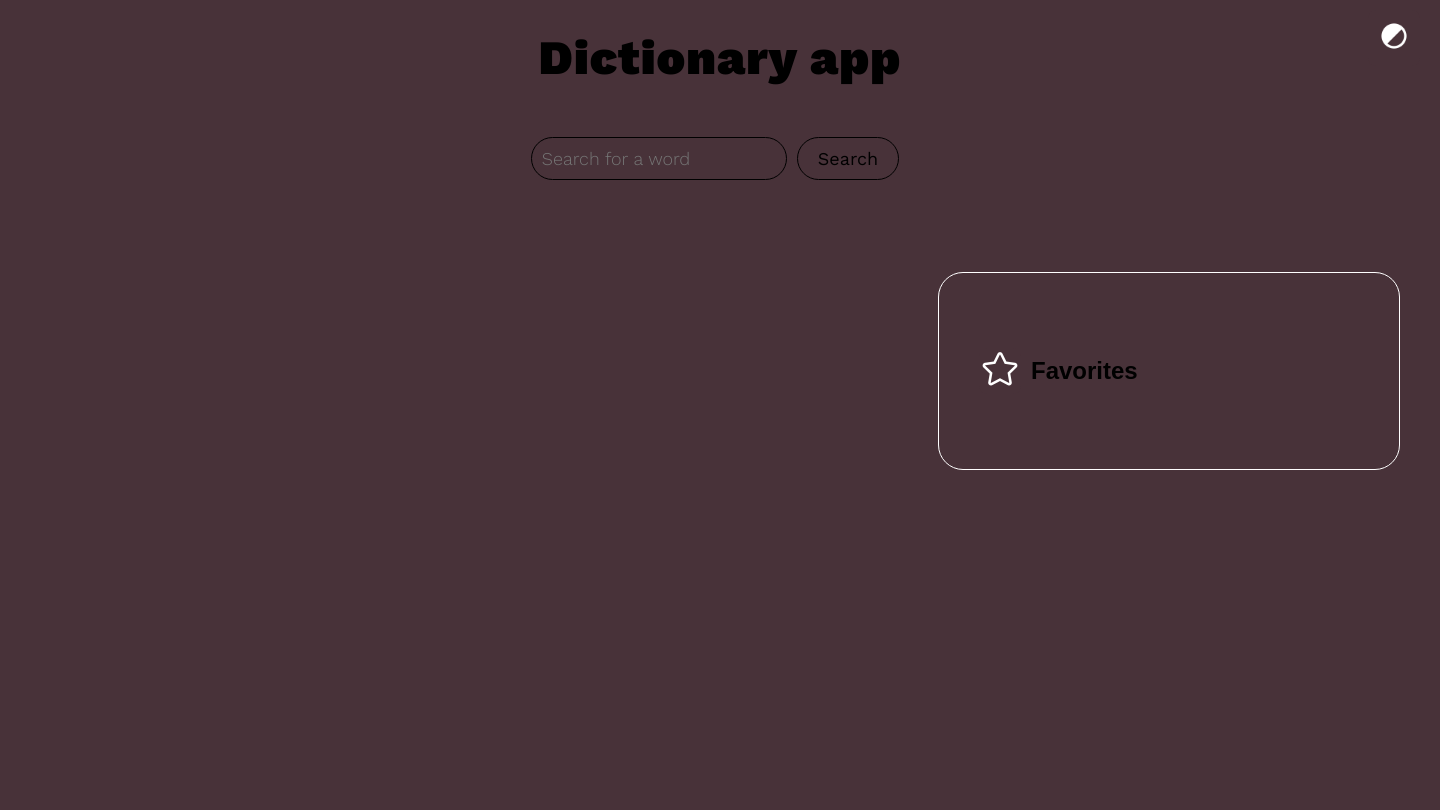
Test: searching for words functionality › should render a list of words when user searches for a word
The image size is (1440, 810).
// simulate typing word into input field
Type "kitten" into the field at [659, 159], box [531,137,787,180]
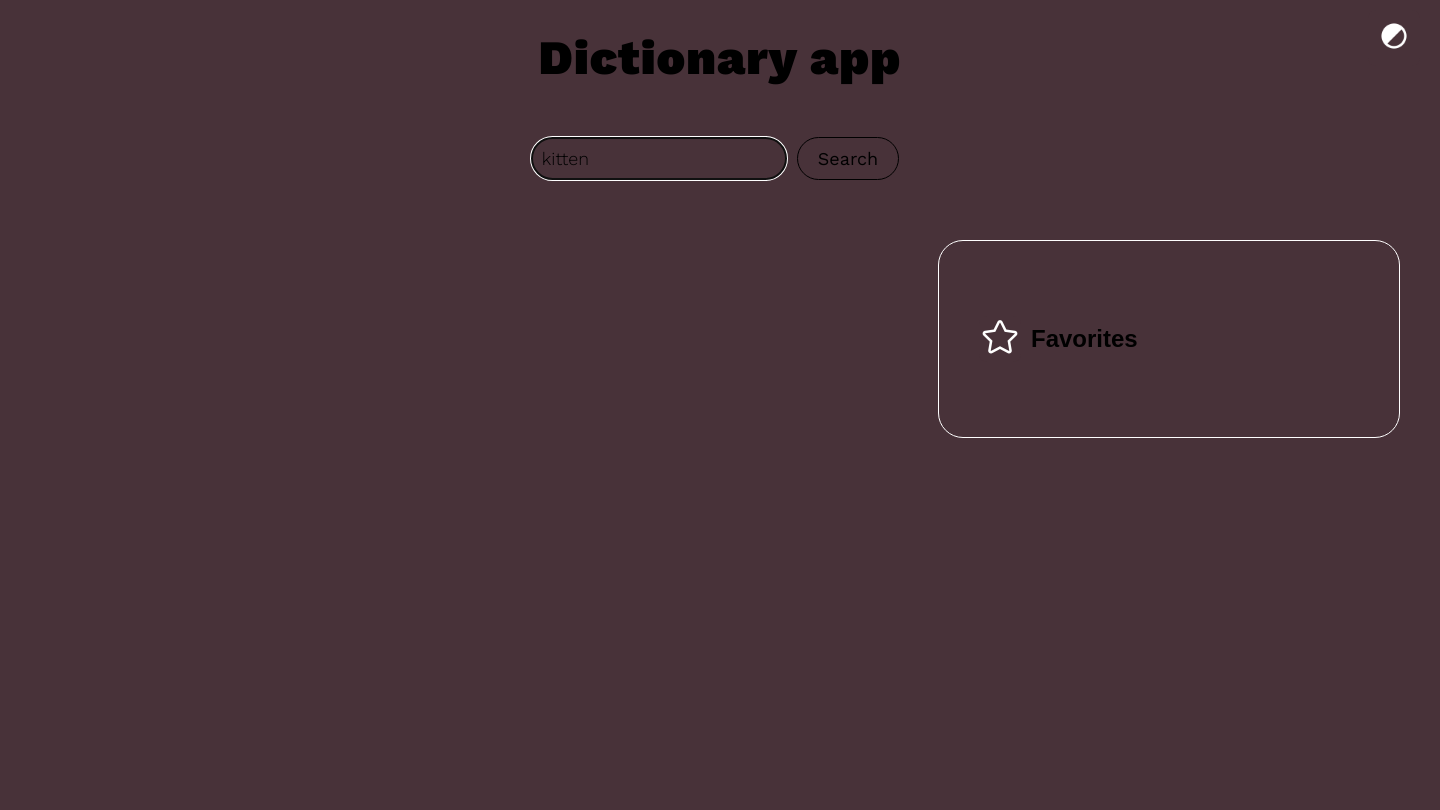
// find the search button and click it
Click the button "Search" at [848, 159], box [797,137,899,180]
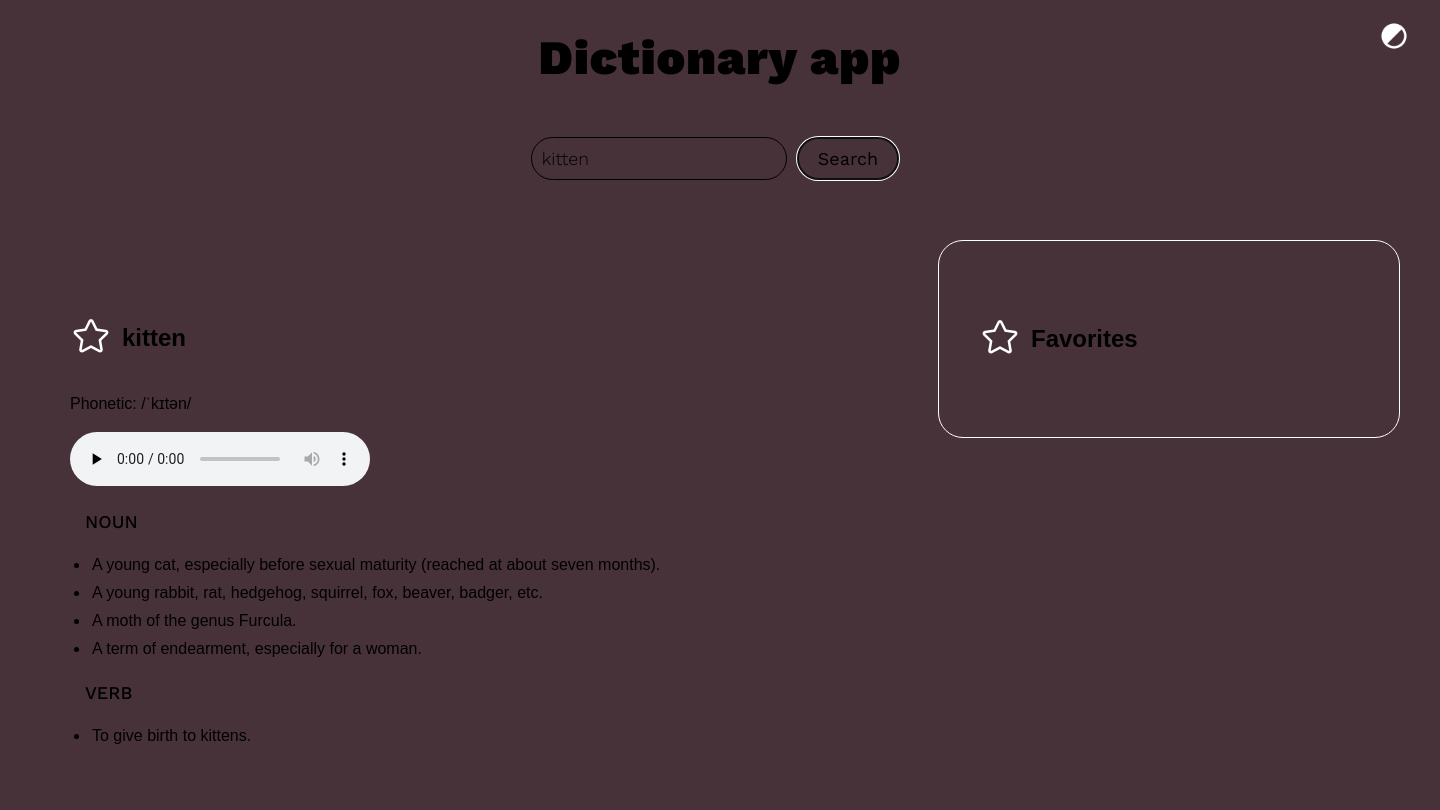
Check: the heading "kitten" is shown, box [122,320,186,356]
